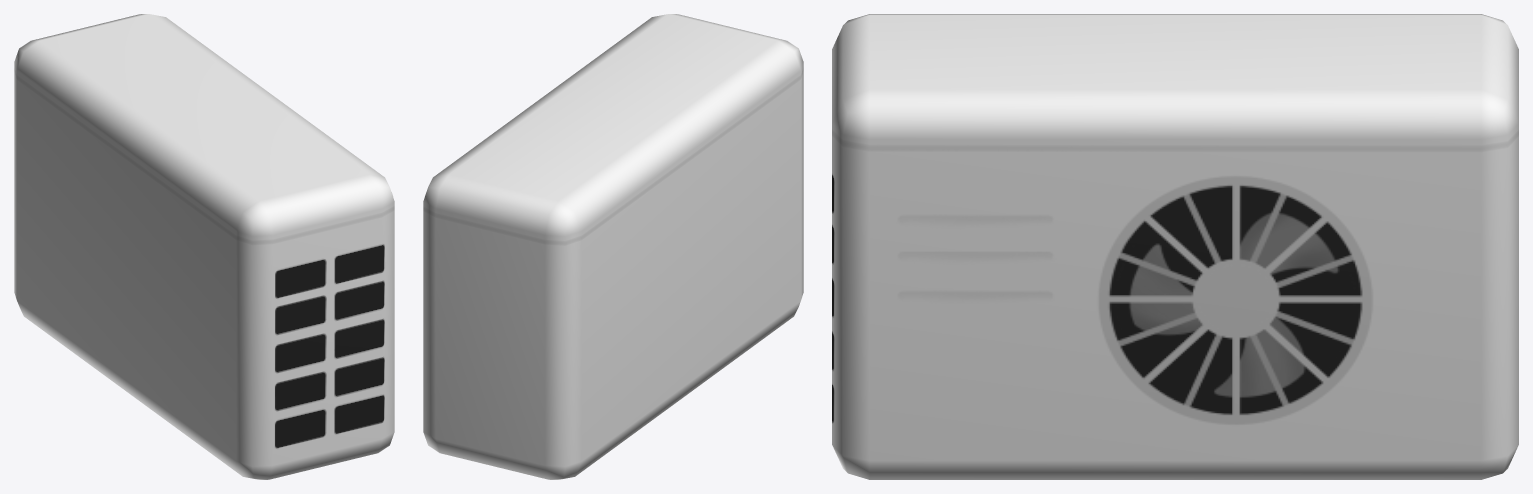
The model's file is AirConditioner_1.obj.
The picture shows the model from 3 angles, left to right: view 1: azimuth 30°, elevation 25°; view 2: azimuth 150°, elevation 25°; view 3: azimuth 270°, elevation 25°; orthographic projection. The views are drawn at different scales.
Parts seen in each view (by area): view 1: AirConditioner_1_AirConditioner_1SG; view 2: AirConditioner_1_AirConditioner_1SG; view 3: AirConditioner_1_AirConditioner_1SG.
Part boxes in pixels (box(x1,y1,x2,y2)): AirConditioner_1_AirConditioner_1SG: box(14, 14, 394, 479); AirConditioner_1_AirConditioner_1SG: box(423, 14, 803, 479); AirConditioner_1_AirConditioner_1SG: box(832, 14, 1518, 479).
Size of the model in its own units: 2.84 by 4.86 by 7.78.
1 material, 1 textured.
